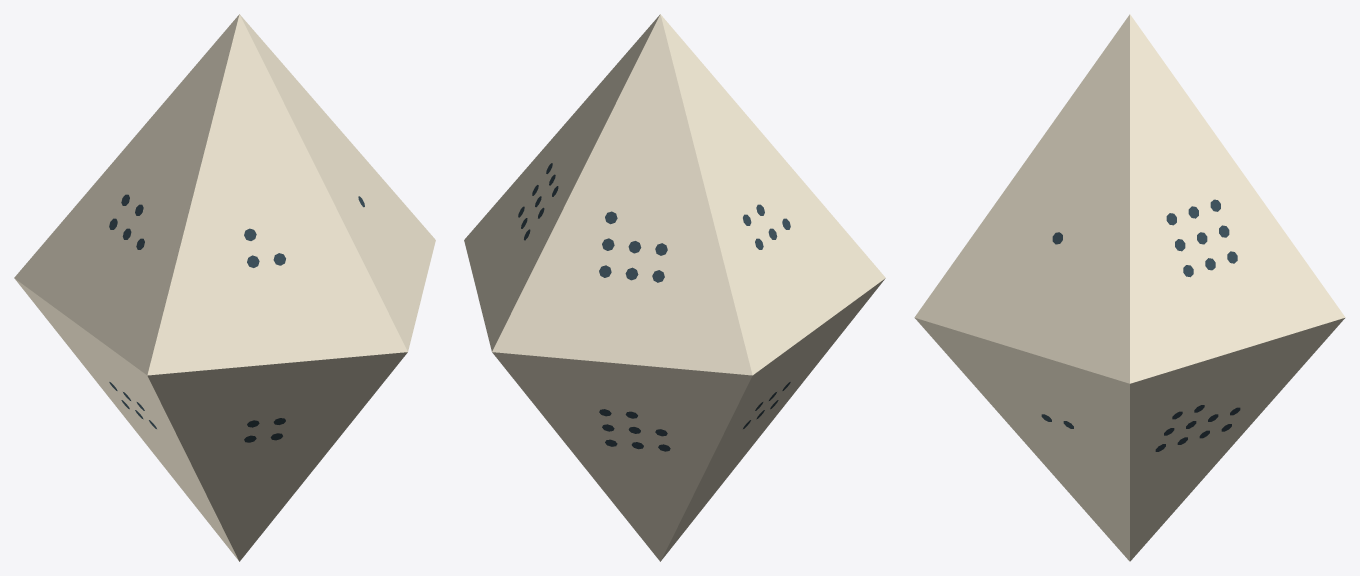
The model's file is tabletop-game-components-d10-bipyramid-ed4c3783__20846.glb.
The picture shows the model from 3 angles, left to right: view 1: azimuth 30°, elevation 25°; view 2: azimuth 150°, elevation 25°; view 3: azimuth 270°, elevation 25°; orthographic projection.
Parts seen in each view (by area): view 1: d10-bipyramid; view 2: d10-bipyramid; view 3: d10-bipyramid.
Boxes of the visible parts, x1,y1,x2,y2 form: d10-bipyramid: (14, 14, 435, 561); d10-bipyramid: (464, 14, 885, 561); d10-bipyramid: (914, 14, 1345, 561).
Size of the model in its own units: 0.0271 by 0.04 by 0.0285.
